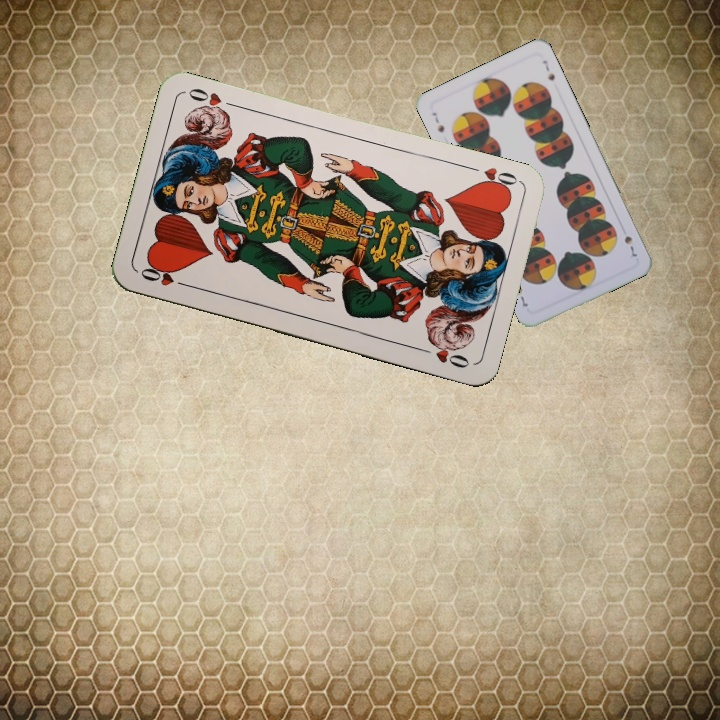HO: (464, 162, 522, 195), (136, 262, 193, 290)
S7: (620, 232, 639, 260), (428, 108, 447, 135)
